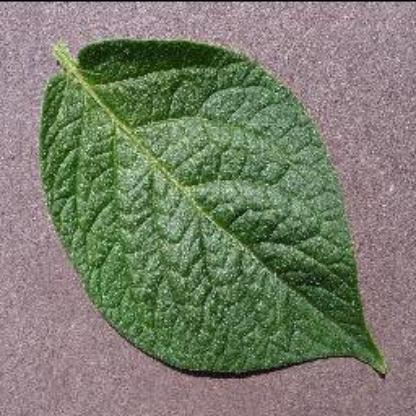Healthy-plant: (27, 24, 397, 387)
